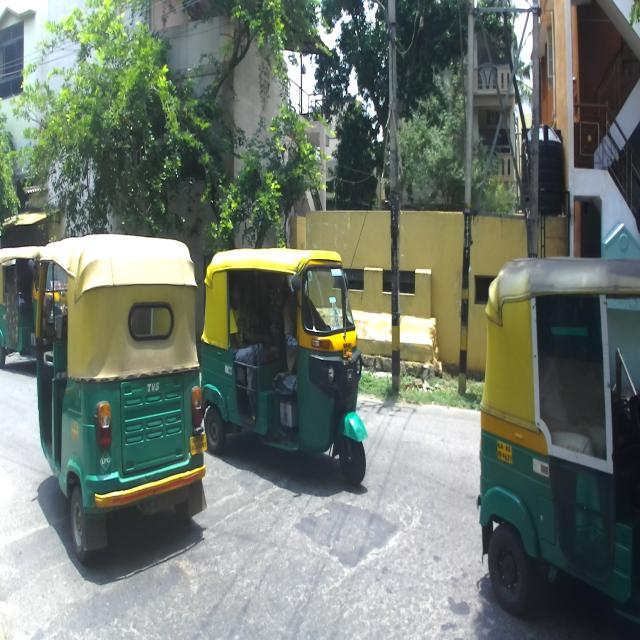auto ahead at: (482, 257, 640, 639), (24, 232, 208, 558), (206, 242, 370, 511)
